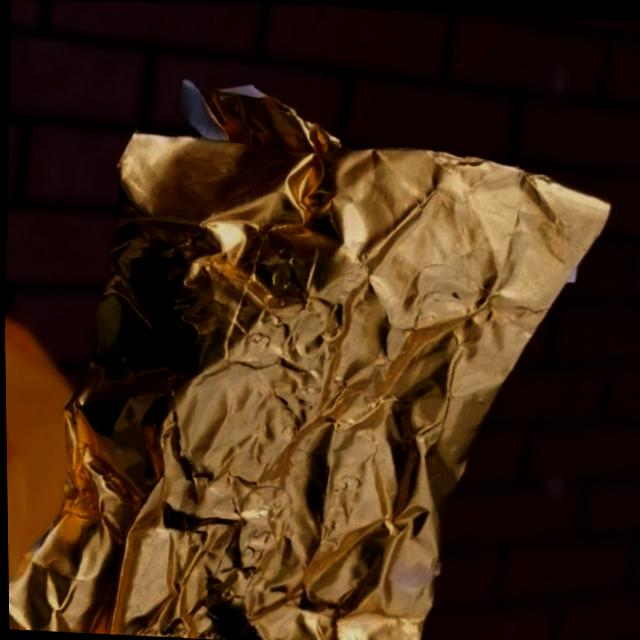Plastic: (1, 65, 622, 640)
